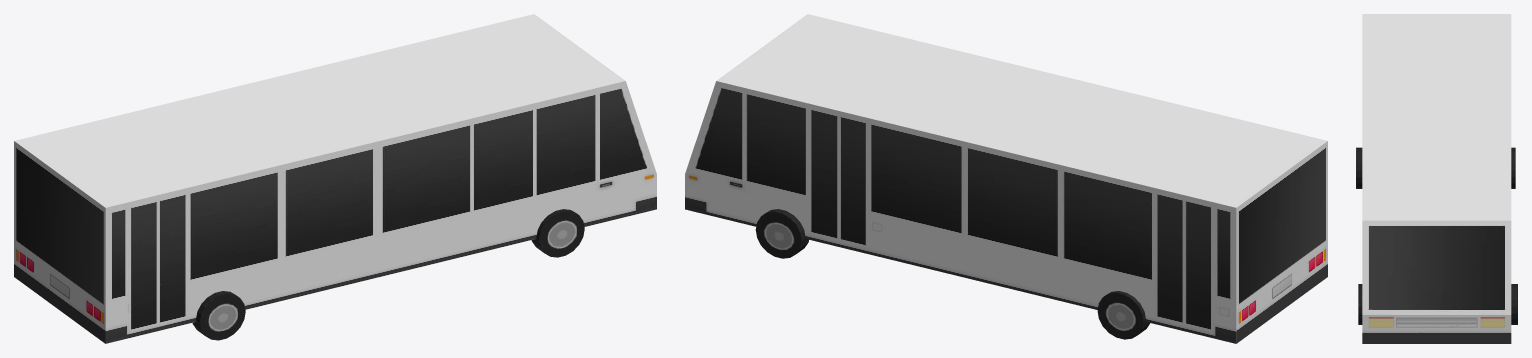
The model's file is item4.glb.
3 views of the same model, side by side, from view 1: azimuth 30°, elevation 25°; view 2: azimuth 150°, elevation 25°; view 3: azimuth 270°, elevation 25° (orthographic). The views are drawn at different scales.
Parts seen in each view (by area): view 1: Car_12; view 2: Car_12; view 3: Car_12.
Boxes of the visible parts, box(x1,y1,x2,y2) form: Car_12: box(14, 14, 656, 343); Car_12: box(685, 14, 1327, 343); Car_12: box(1356, 14, 1517, 343).
Bounding box in the file's own units: 1.81 × 0.4935 × 0.5634.
1 material, 1 textured.
